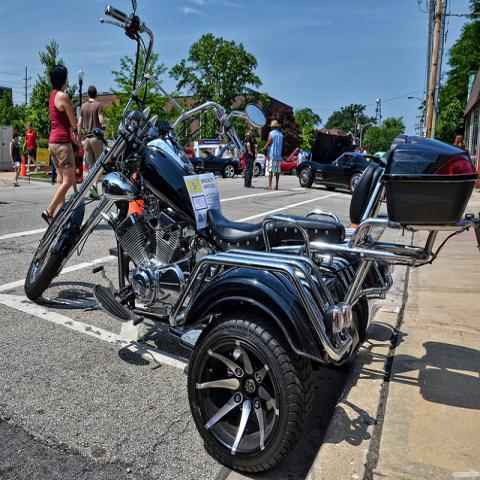car: (295, 151, 370, 195), (198, 144, 241, 177), (280, 147, 299, 175), (254, 154, 266, 178), (181, 147, 195, 158)
motorcycle: (23, 4, 480, 470)
